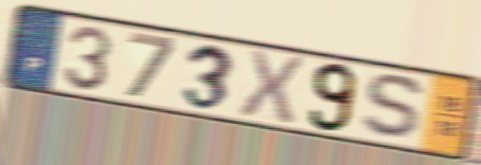3: (179, 41, 241, 114), (61, 24, 115, 93)
7: (122, 29, 181, 103)
9: (304, 60, 363, 135)
S: (357, 71, 431, 143)
X: (236, 46, 307, 126)
